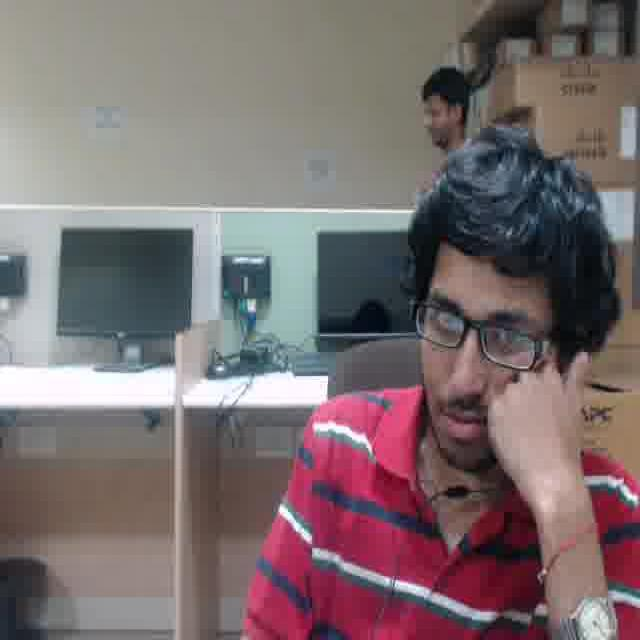Boredom: (420, 248, 564, 508)
